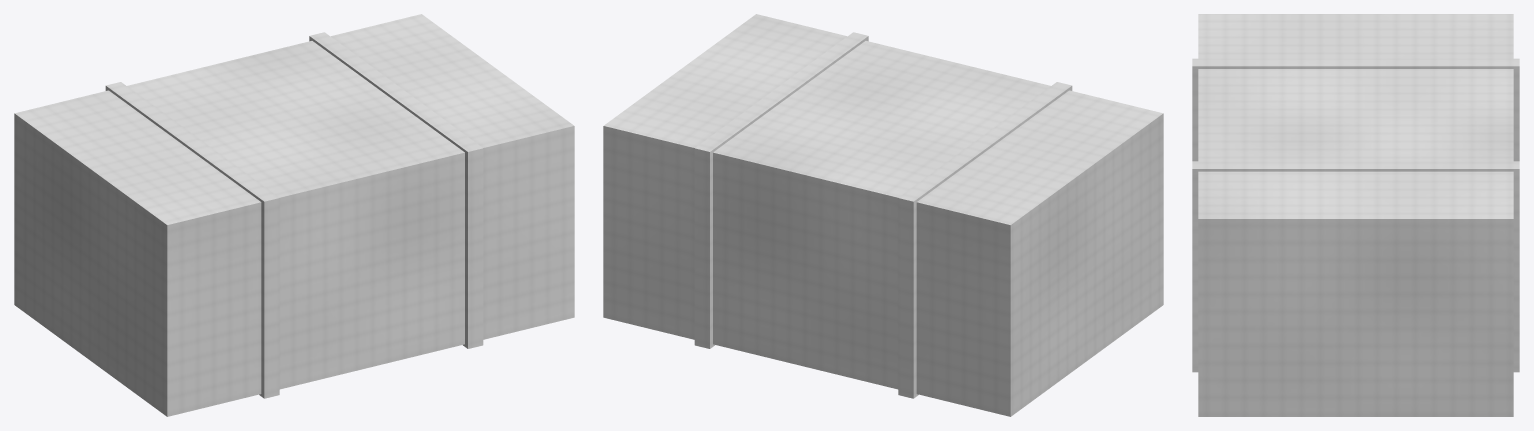
The model's file is food_hay.obj.
3 renders of one model, left to right at view 1: azimuth 30°, elevation 25°; view 2: azimuth 150°, elevation 25°; view 3: azimuth 270°, elevation 25°, orthographic. The views are drawn at different scales.
Parts seen in each view (by area): view 1: food_hay; view 2: food_hay; view 3: food_hay.
Part boxes in pixels (x1,y1,x2,y2): food_hay: [14, 14, 574, 416]; food_hay: [603, 14, 1163, 416]; food_hay: [1192, 14, 1519, 416].
Bounding box in the file's own units: 0.8 × 0.37 × 0.54.
